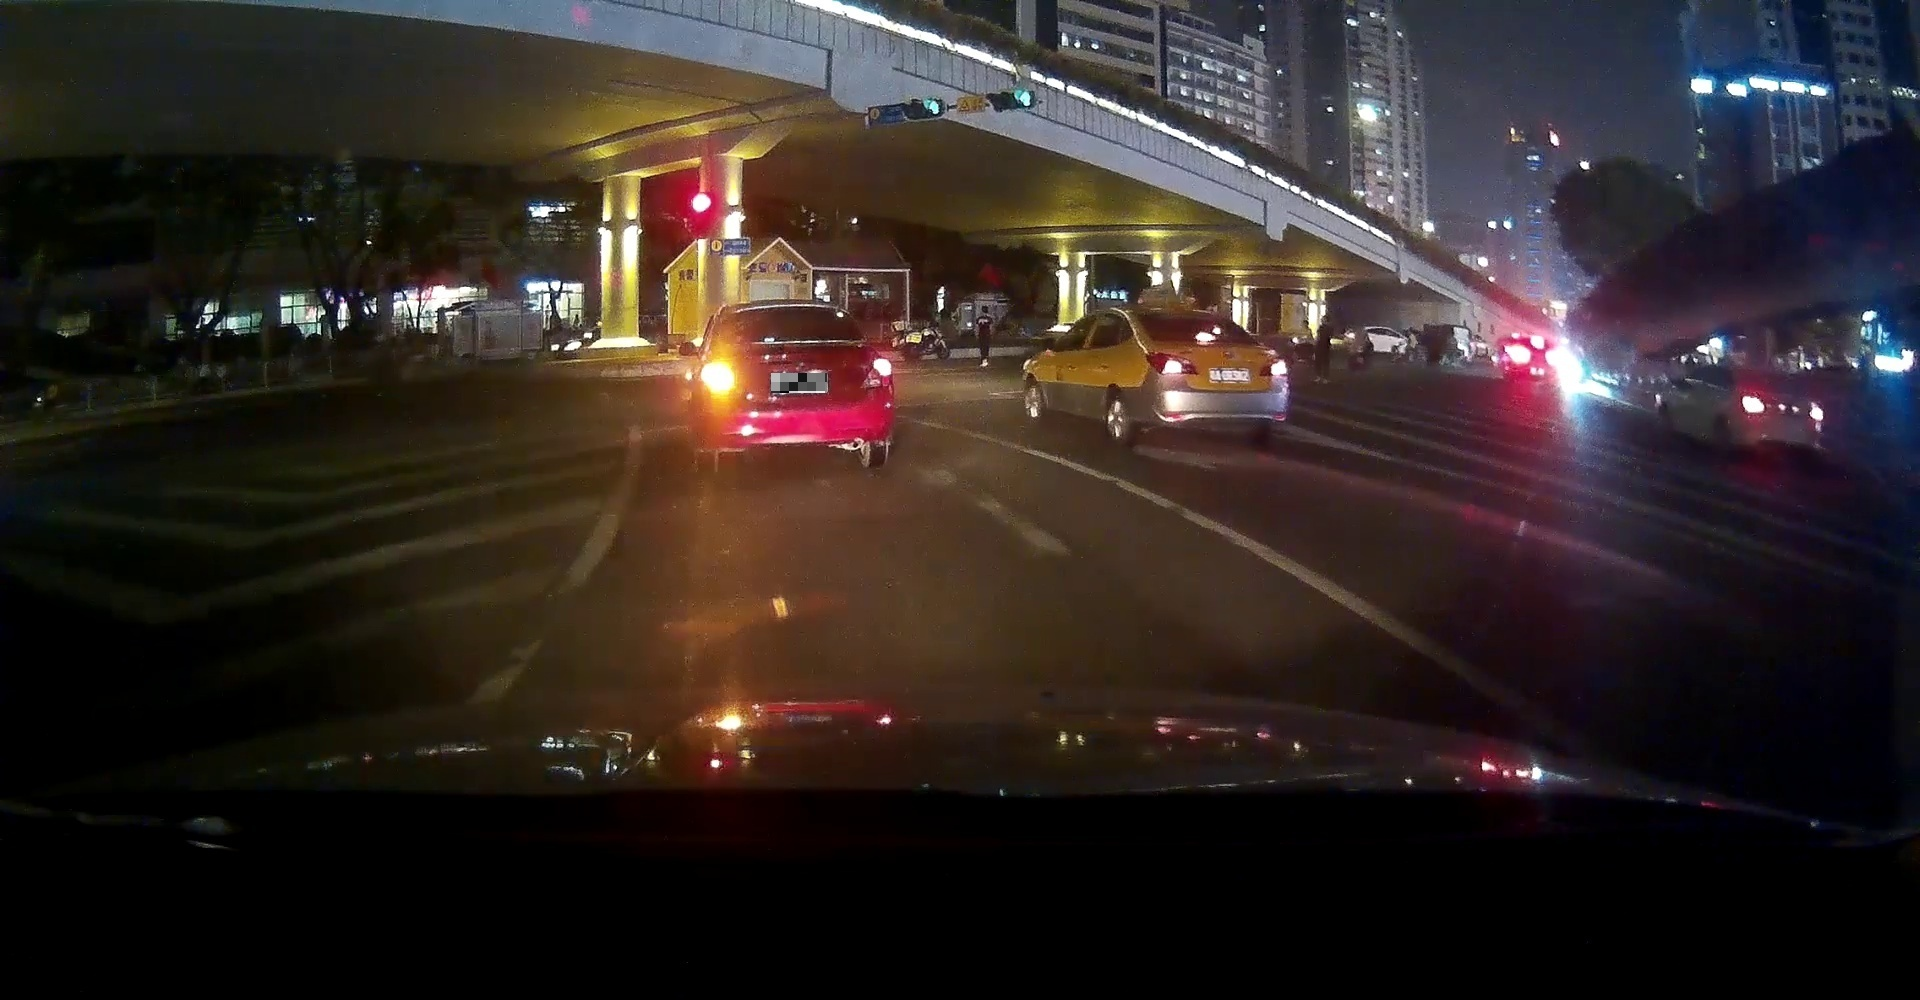L_light: (1144, 352, 1197, 376), (703, 360, 737, 393), (1742, 396, 1764, 412)
R_light: (858, 357, 891, 388), (1258, 357, 1288, 376), (1807, 404, 1822, 421)
T_light: (776, 305, 801, 313), (1194, 332, 1217, 341), (1759, 376, 1777, 382)
night-brake: (1133, 305, 1290, 444)
night-left: (702, 298, 893, 475)
night-no: (1735, 367, 1823, 456)
plate_1: (771, 373, 827, 393)
